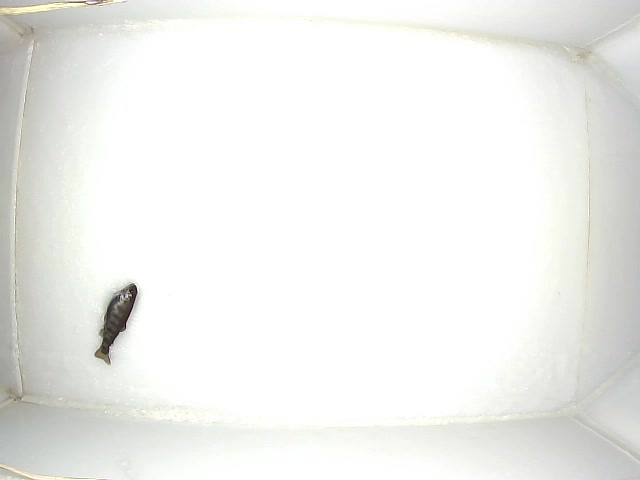fish: (94, 283, 138, 365)
